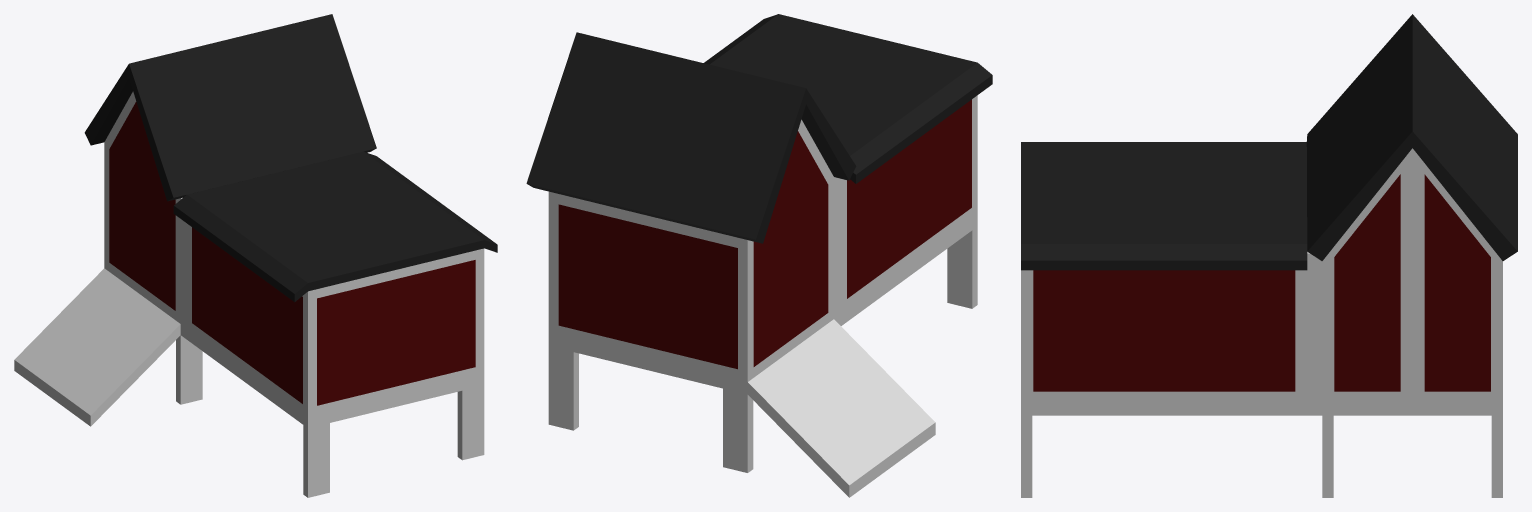
File: chickenCoop_01.FBX
3 views of the same model, side by side, from view 1: azimuth 30°, elevation 25°; view 2: azimuth 150°, elevation 25°; view 3: azimuth 270°, elevation 25° (orthographic). The views are drawn at different scales.
Parts seen in each view (by area): view 1: Box001; view 2: Box001; view 3: Box001.
Part boxes in pixels (left/top/right/bottom): Box001: left=14, top=14, right=497, bottom=497; Box001: left=526, top=14, right=992, bottom=497; Box001: left=1021, top=14, right=1517, bottom=497.
Size of the model in its own units: 31.73 by 34.3 by 41.24.
